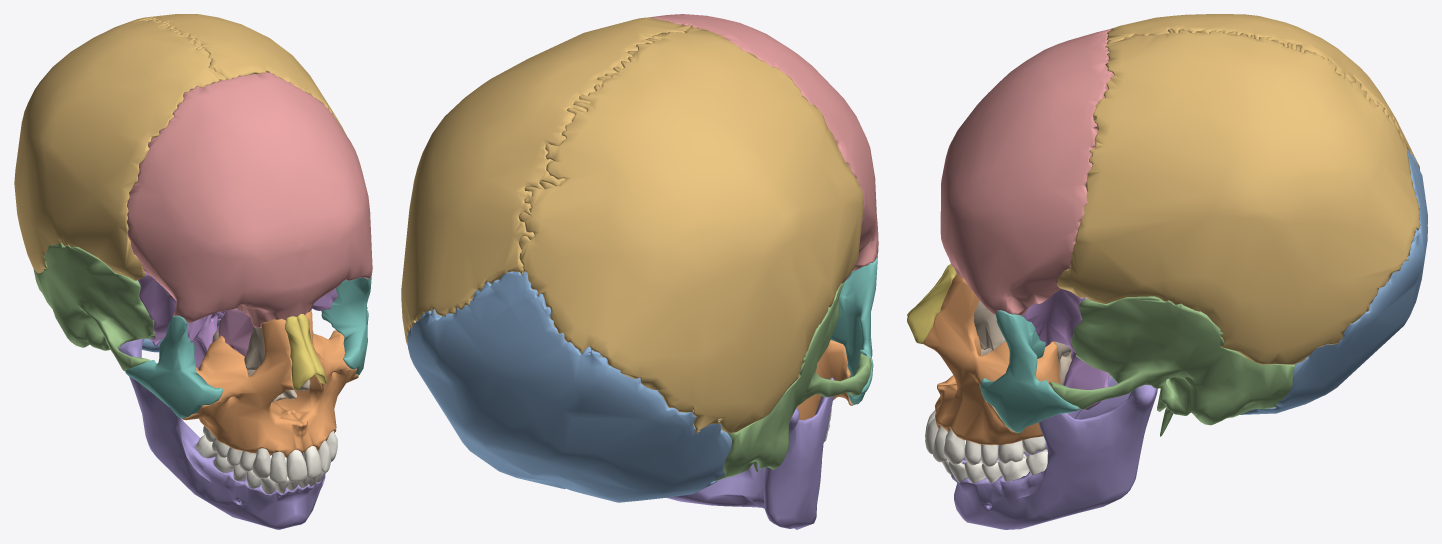
Rendered from craneo.glb.
3 views of the same model, side by side, from view 1: azimuth 30°, elevation 25°; view 2: azimuth 150°, elevation 25°; view 3: azimuth 270°, elevation 25° (orthographic). The views are drawn at different scales.
Visible parts, largest first — view 1: frontal, parietales, maxilares, temporales, mandibula, cigomaticos, dientes, esfenoides, nasales, etmoides, otros-cara; view 2: parietales, occipital, frontal, mandibula, temporales, cigomaticos, maxilares; view 3: parietales, frontal, temporales, mandibula, maxilares, occipital, cigomaticos, dientes, esfenoides, nasales, otros-cara.
Part boxes in pixels (<box>): frontal: <box>127,72,372,328</box>; parietales: <box>14,14,360,280</box>; maxilares: <box>182,310,358,457</box>; temporales: <box>33,242,367,371</box>; mandibula: <box>118,308,325,529</box>; cigomaticos: <box>125,274,371,418</box>; dientes: <box>195,426,337,494</box>; esfenoides: <box>138,272,337,369</box>; nasales: <box>285,314,326,390</box>; etmoides: <box>218,308,261,356</box>; otros-cara: <box>212,327,310,401</box>; parietales: <box>401,17,863,433</box>; occipital: <box>407,271,731,502</box>; frontal: <box>648,14,878,271</box>; mandibula: <box>666,377,834,529</box>; temporales: <box>715,281,871,480</box>; cigomaticos: <box>830,255,877,404</box>; maxilares: <box>797,340,854,420</box>; parietales: <box>1057,14,1420,364</box>; frontal: <box>940,29,1114,315</box>; temporales: <box>1049,296,1295,436</box>; mandibula: <box>951,375,1157,529</box>; maxilares: <box>923,274,1060,445</box>; occipital: <box>1240,149,1427,414</box>; cigomaticos: <box>980,310,1079,432</box>; dientes: <box>925,410,1047,483</box>; esfenoides: <box>1022,288,1109,410</box>; nasales: <box>907,264,956,344</box>; otros-cara: <box>974,300,1071,414</box>.
Size of the model in its own units: 0.1487 by 0.2092 by 0.2037.
